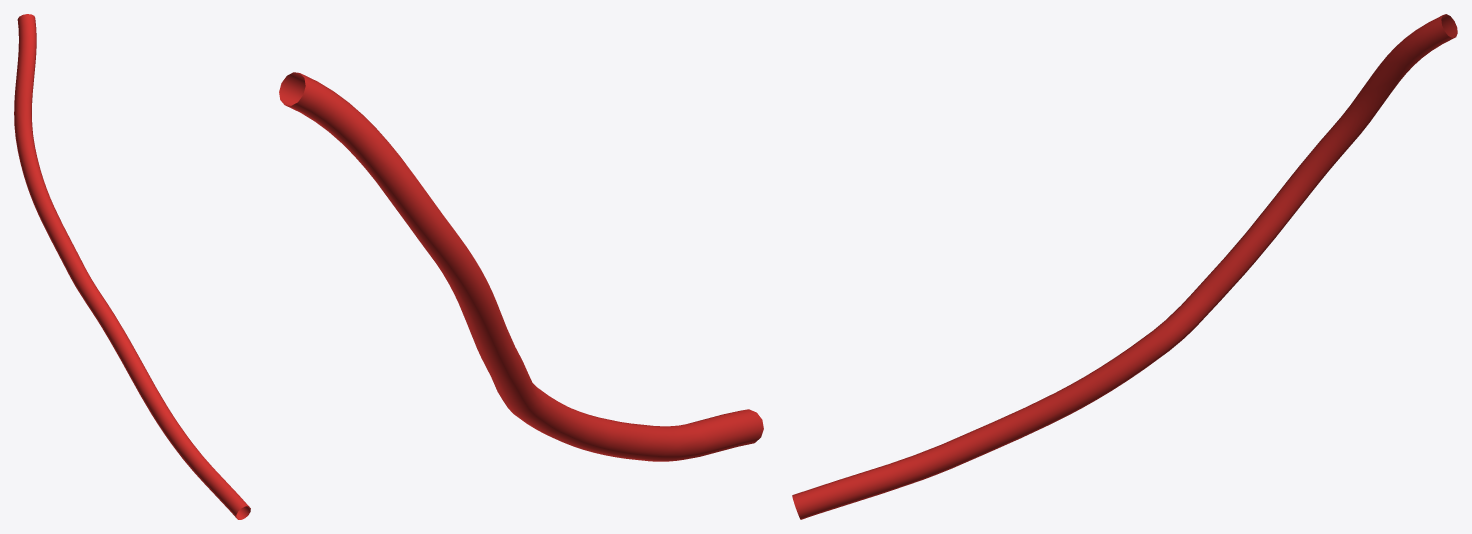
The model's file is circulatorio-buccal-artery-l.glb.
3 views of the same model, side by side, from view 1: azimuth 30°, elevation 25°; view 2: azimuth 150°, elevation 25°; view 3: azimuth 270°, elevation 25° (orthographic). The views are drawn at different scales.
Visible parts, largest first — view 1: Buccal artery.l; view 2: Buccal artery.l; view 3: Buccal artery.l.
Part boxes in pixels (left/top/right/bottom): Buccal artery.l: left=14, top=14, right=250, bottom=519; Buccal artery.l: left=279, top=72, right=763, bottom=461; Buccal artery.l: left=792, top=14, right=1457, bottom=519.
Bounding box in the file's own units: 0.00486 × 0.0299 × 0.0356.
